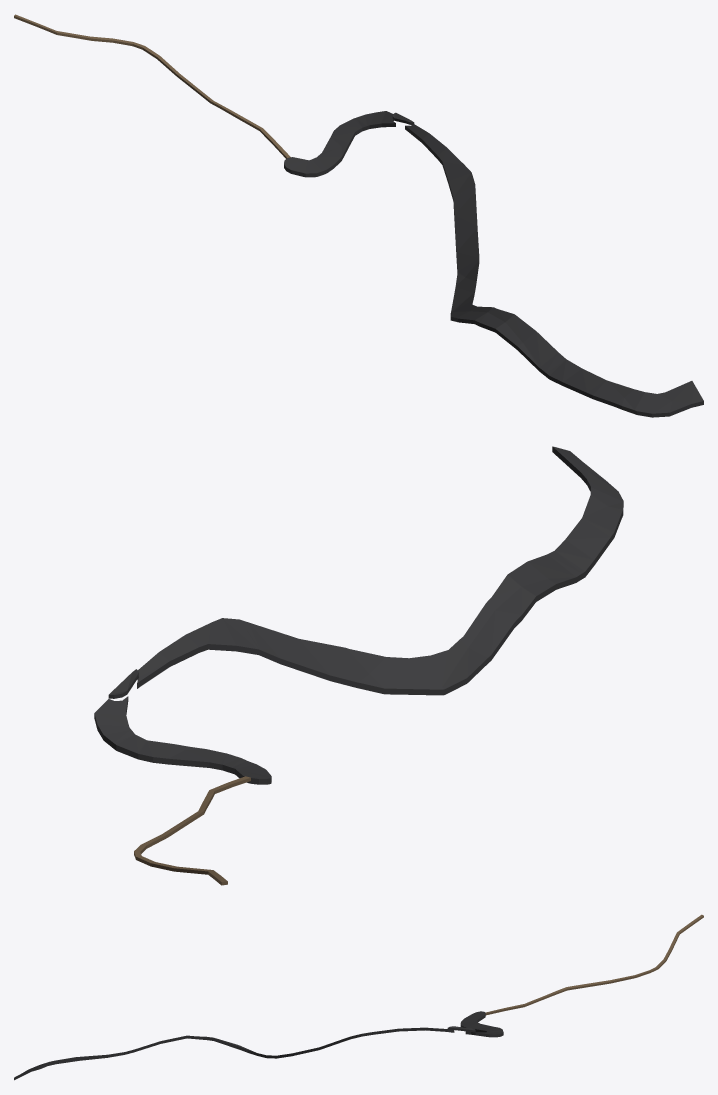
3 renders of one model, top to bottom at view 1: azimuth 30°, elevation 25°; view 2: azimuth 150°, elevation 25°; view 3: azimuth 270°, elevation 25°, orthographic. The views are drawn at different scales.
Size of the model in its own units: 75.42 by 38.79 by 261.
